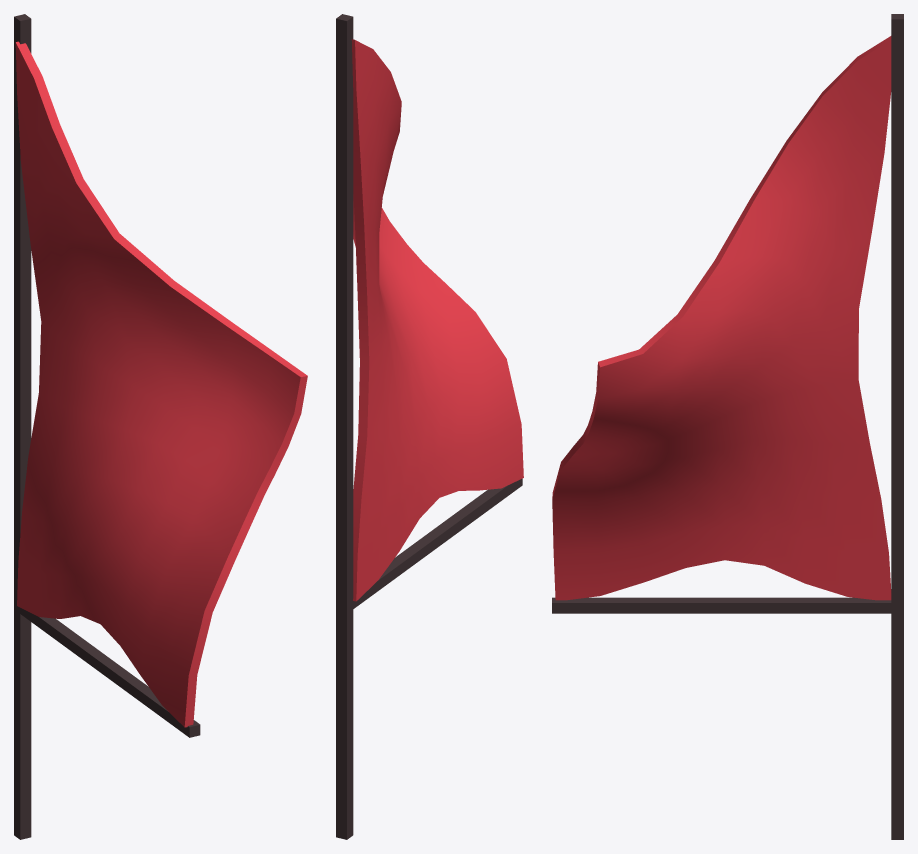
The model's file is mast.fbx.
3 renders of one model, left to right at view 1: azimuth 30°, elevation 25°; view 2: azimuth 150°, elevation 25°; view 3: azimuth 270°, elevation 25°, orthographic.
Visible parts, largest first — view 1: mast; view 2: mast; view 3: mast.
Boxes of the visible parts, left/top/right/bottom form: mast: left=14, top=14, right=307, bottom=839; mast: left=336, top=14, right=523, bottom=839; mast: left=552, top=14, right=903, bottom=839.
Size of the model in its own units: 84.35 by 453 by 176.
